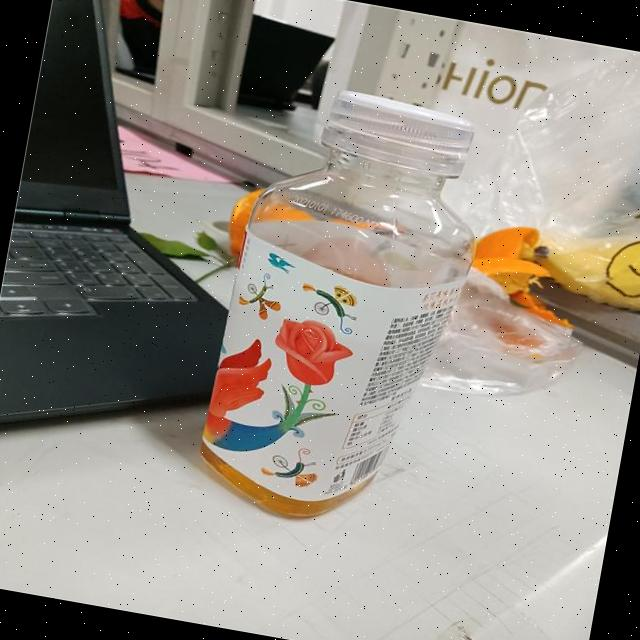orange-peel: (222, 178, 404, 288)
